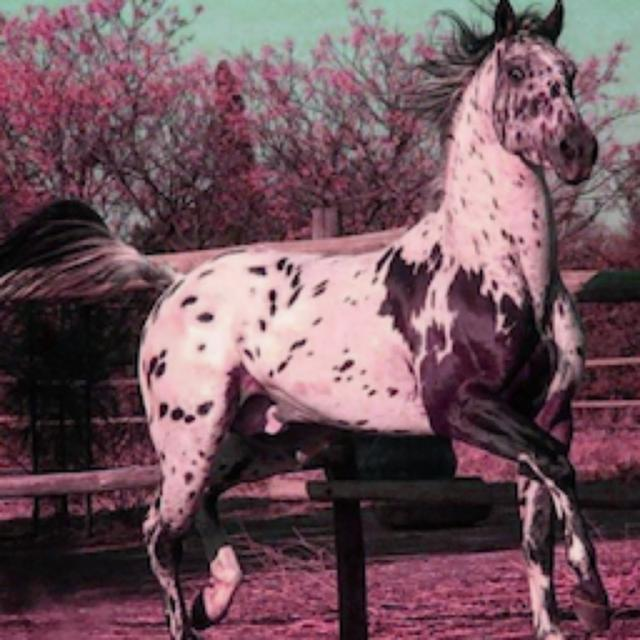Horse: (0, 0, 625, 638)
